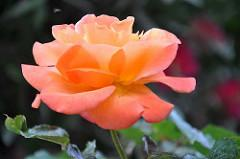Rose: (20, 12, 201, 129)
